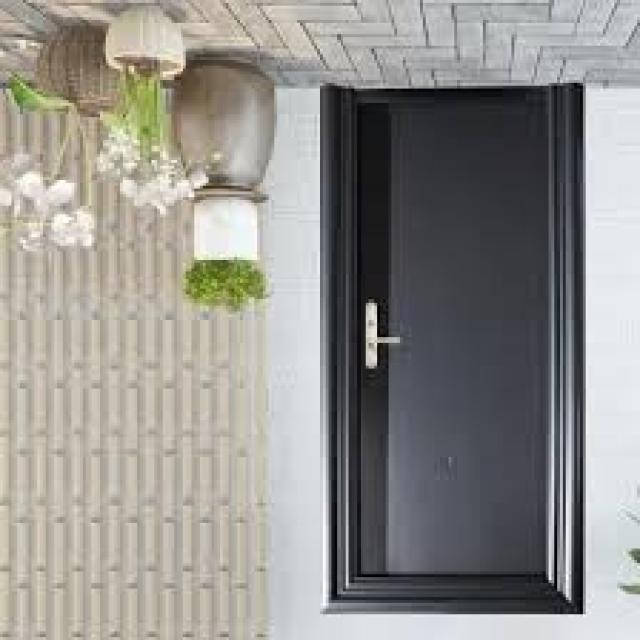door: (326, 84, 583, 613)
